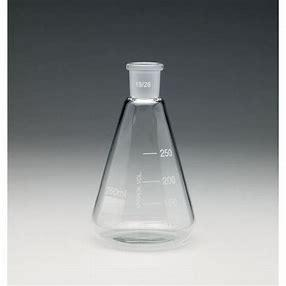Titrarion: (89, 60, 194, 241)
